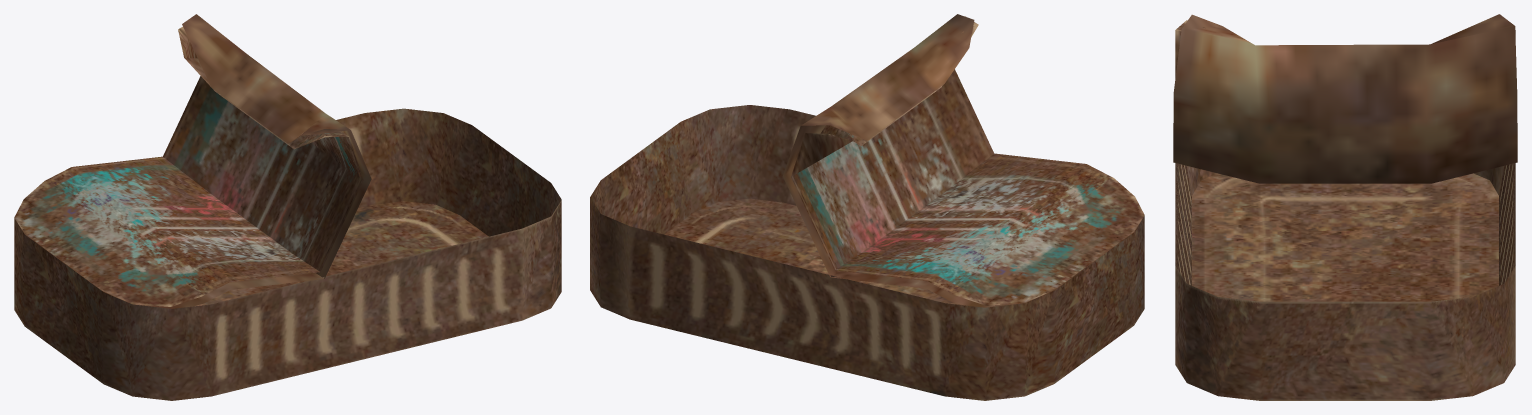
Rendered from SM_TrashCan_05_B.fbx.
3 renders of one model, left to right at view 1: azimuth 30°, elevation 25°; view 2: azimuth 150°, elevation 25°; view 3: azimuth 270°, elevation 25°, orthographic. The views are drawn at different scales.
Parts seen in each view (by area): view 1: SM_TrashCan_05_B; view 2: SM_TrashCan_05_B; view 3: SM_TrashCan_05_B.
Boxes of the visible parts, x1,y1,x2,y2 form: SM_TrashCan_05_B: (14, 14, 561, 400); SM_TrashCan_05_B: (590, 14, 1144, 400); SM_TrashCan_05_B: (1173, 14, 1517, 400).
Size of the model in its own units: 18.03 by 11.15 by 8.96.
Materials: 1 (1 with a texture image).
